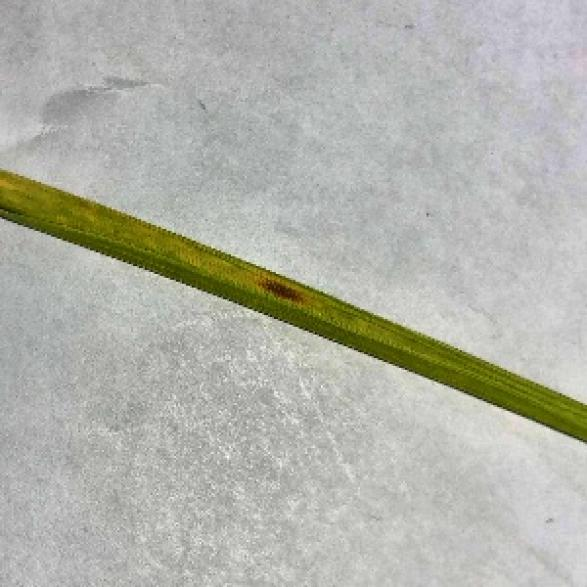Leaf_smut: (225, 270, 354, 321)
